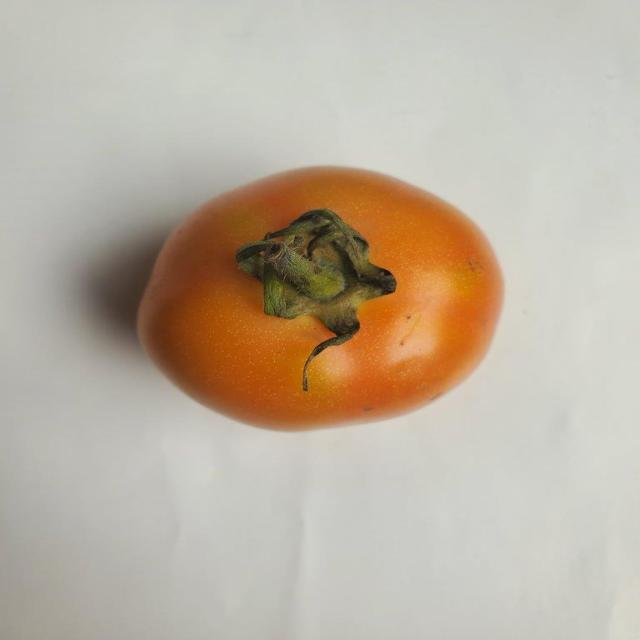Tomato: (136, 162, 511, 432)
